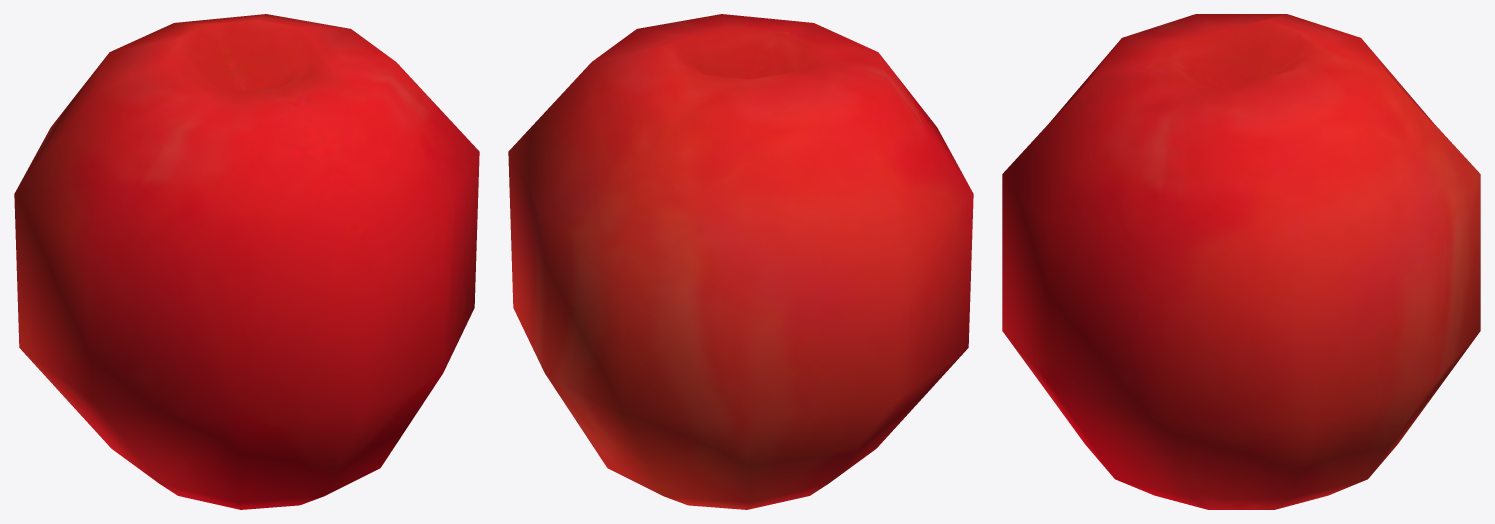
Rendered from pingguomesh.FBX.
3 renders of one model, left to right at view 1: azimuth 30°, elevation 25°; view 2: azimuth 150°, elevation 25°; view 3: azimuth 270°, elevation 25°, orthographic.
Parts seen in each view (by area): view 1: pingguo; view 2: pingguo; view 3: pingguo.
Boxes of the visible parts, bbox=[...] form: pingguo: bbox=[14, 14, 479, 509]; pingguo: bbox=[508, 14, 973, 509]; pingguo: bbox=[1002, 14, 1480, 509].
Bounding box in the file's own units: 119 × 122 × 124.
1 material, 1 textured.
